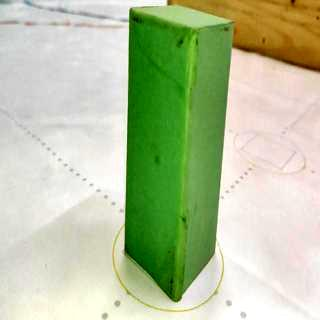greenbox: (128, 7, 232, 303)
